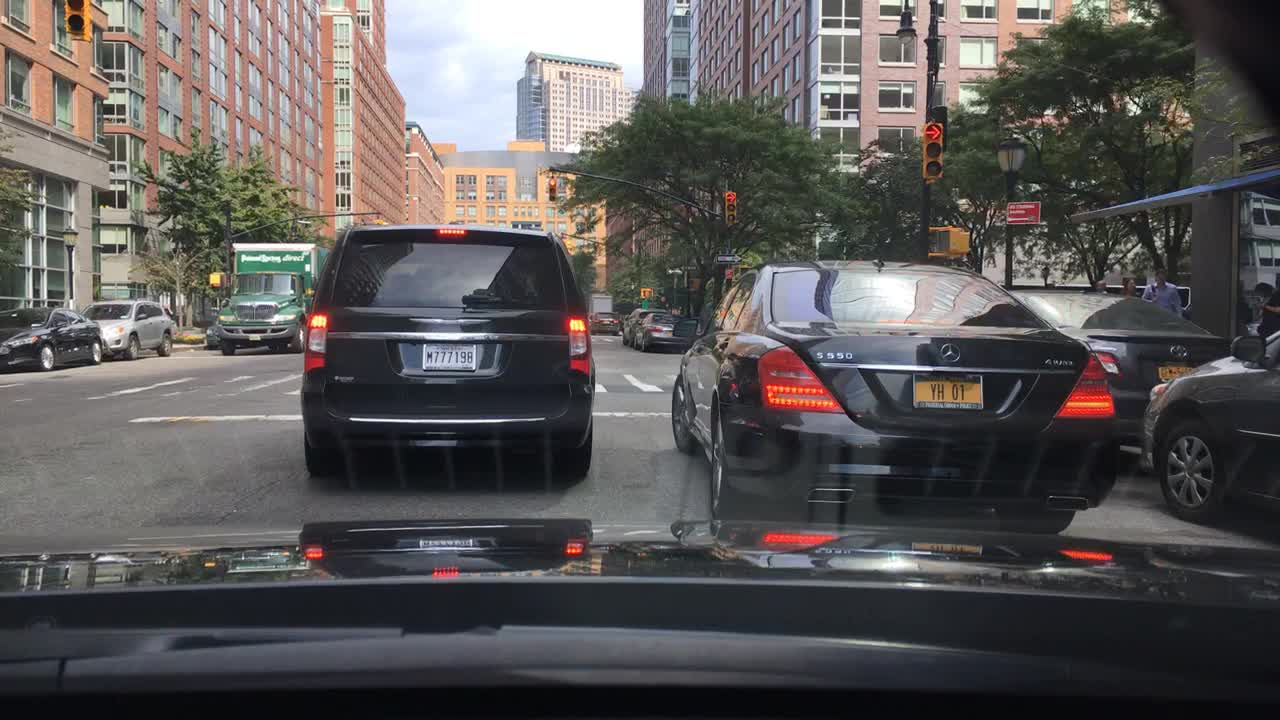car: (670, 260, 1122, 543), (300, 221, 596, 483), (1008, 291, 1234, 478), (1136, 308, 1279, 532), (0, 305, 108, 371), (81, 298, 181, 361), (634, 312, 700, 357), (1141, 267, 1187, 319), (621, 307, 670, 349), (589, 310, 623, 335), (204, 312, 226, 349)
person: (1251, 280, 1278, 339), (1123, 273, 1141, 297), (1092, 273, 1111, 295)
traffic light: (923, 120, 945, 182), (934, 224, 969, 256), (64, 3, 91, 44), (722, 189, 739, 224), (209, 267, 231, 288), (636, 284, 656, 301), (548, 177, 557, 202)
traffic sign: (1004, 199, 1043, 224), (714, 251, 742, 262), (722, 268, 739, 282)
truck: (214, 241, 332, 356), (587, 292, 614, 314)
